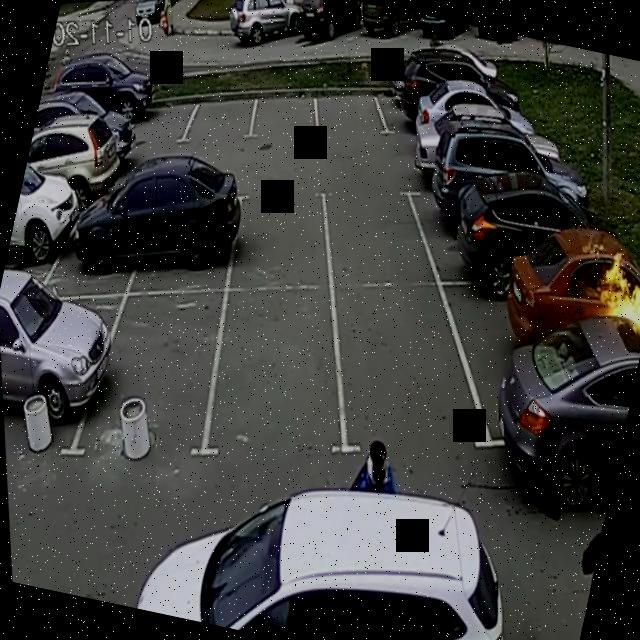car: (46, 246, 259, 500), (429, 242, 621, 464), (0, 269, 138, 499), (115, 160, 254, 308), (404, 156, 548, 298), (40, 160, 158, 295), (372, 62, 464, 156), (116, 75, 200, 158)
free: (302, 252, 509, 490), (190, 262, 372, 476), (213, 162, 354, 317), (306, 167, 443, 304), (240, 72, 330, 160), (306, 76, 396, 158), (178, 78, 268, 160)
